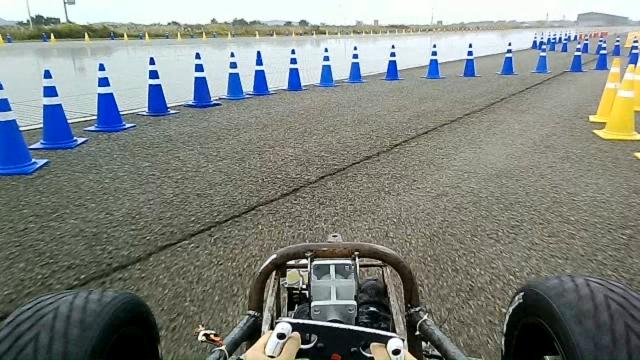blue cone: (28, 68, 88, 150), (0, 82, 49, 176), (81, 62, 136, 132), (136, 56, 180, 116), (183, 52, 222, 108), (218, 51, 252, 100), (246, 50, 276, 96), (279, 48, 308, 92), (314, 47, 341, 87), (342, 46, 368, 84), (420, 43, 446, 79), (380, 44, 404, 81), (458, 42, 482, 78), (496, 41, 520, 75), (530, 43, 552, 74), (564, 43, 587, 72)
yellow cone: (592, 63, 639, 141), (588, 57, 621, 123)
